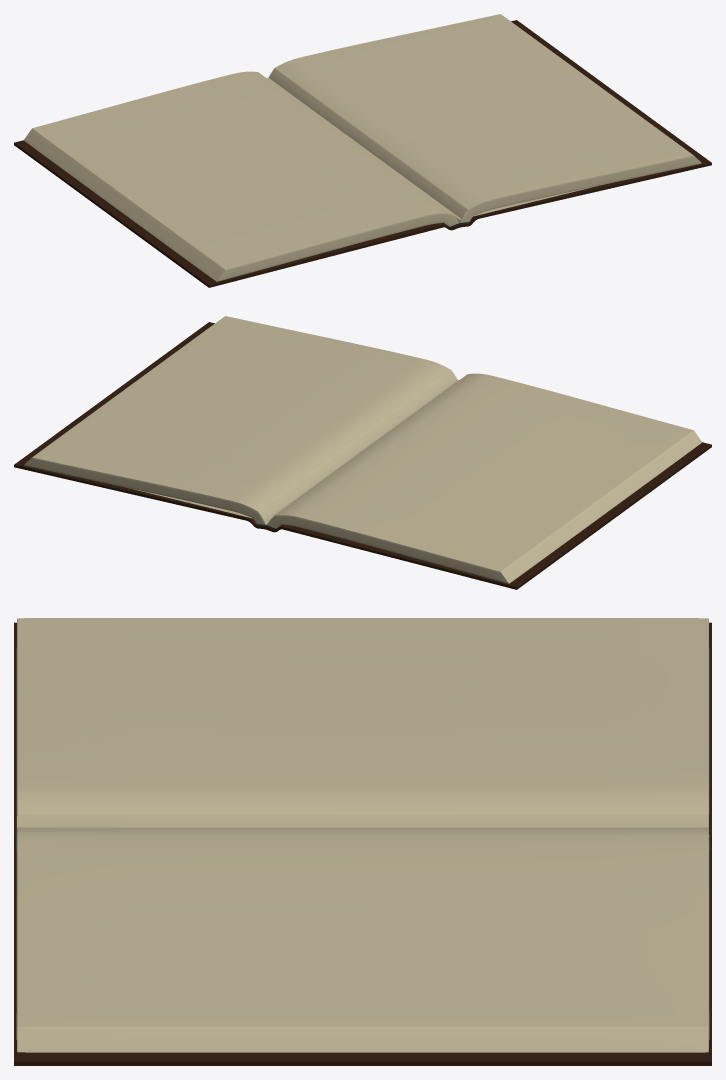
File: magic book animation.fbx
3 views of the same model, one above another, from view 1: azimuth 30°, elevation 25°; view 2: azimuth 150°, elevation 25°; view 3: azimuth 270°, elevation 25° (orthographic). The views are drawn at different scales.
Parts seen in each view (by area): view 1: Base Pages, Cube, Plane; view 2: Base Pages, Cube, Plane; view 3: Base Pages, Cube.
Boxes of the visible parts, x1=… form: Base Pages: x1=23, y1=14, x2=701, y2=281; Cube: x1=14, y1=20, x2=711, y2=287; Plane: x1=267, y1=77, x2=597, y2=219; Base Pages: x1=24, y1=316, x2=702, y2=583; Cube: x1=14, y1=322, x2=711, y2=589; Plane: x1=128, y1=379, x2=458, y2=521; Base Pages: x1=16, y1=618, x2=709, y2=1052; Cube: x1=14, y1=622, x2=711, y2=1065.
Size of the model in its own units: 300 by 11.75 by 202.
